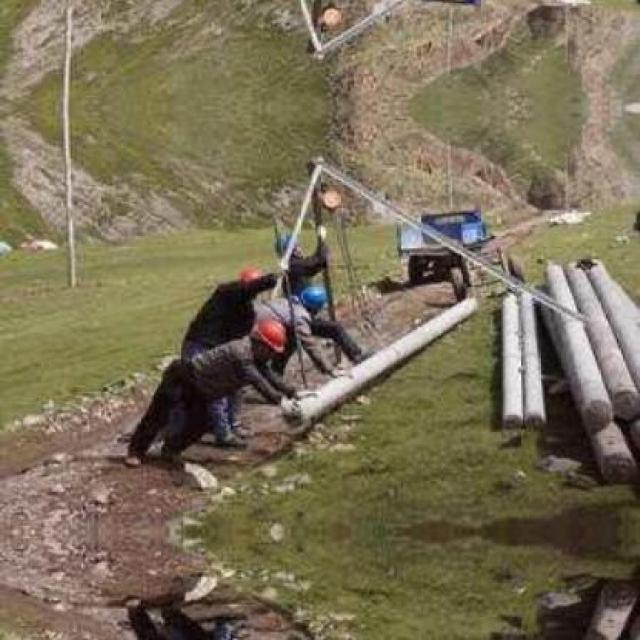hat: (258, 319, 291, 356), (300, 284, 333, 318), (276, 224, 302, 259), (237, 261, 266, 287)
